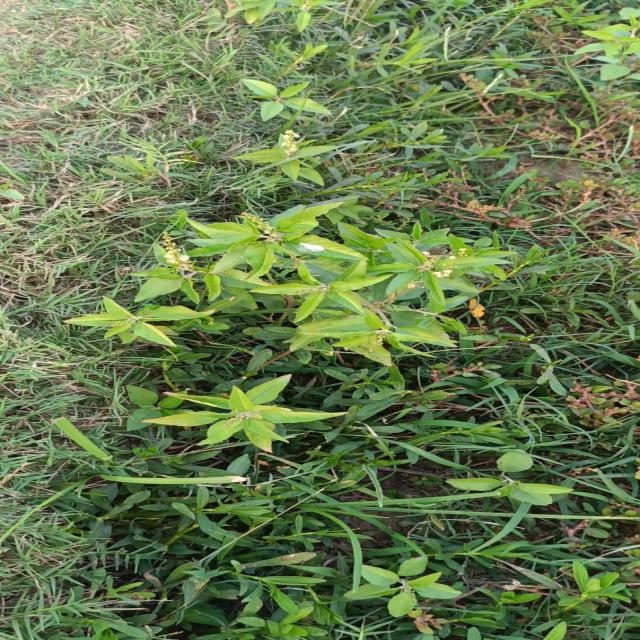plant: (65, 196, 512, 367), (135, 376, 343, 451), (234, 130, 336, 182), (241, 79, 309, 117), (311, 103, 328, 113)
